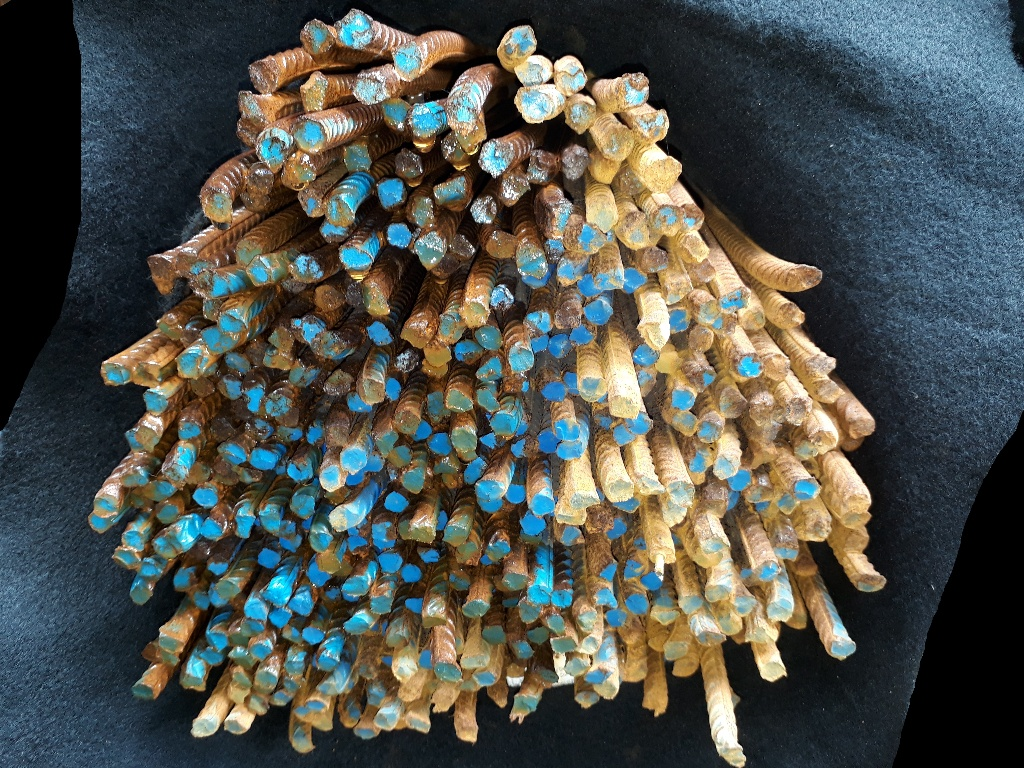dipstick: (513, 86, 554, 124), (335, 9, 373, 48), (291, 118, 329, 155), (351, 71, 390, 104), (235, 90, 268, 129), (478, 138, 510, 178), (405, 102, 440, 138), (414, 233, 448, 270), (564, 96, 597, 134), (390, 45, 423, 83), (298, 71, 328, 112), (147, 254, 176, 295), (602, 125, 634, 162), (513, 55, 549, 87), (256, 137, 288, 173), (399, 317, 436, 348), (289, 253, 326, 284), (795, 513, 833, 543), (249, 56, 279, 94), (563, 224, 602, 253), (636, 111, 670, 144), (300, 19, 334, 52), (547, 199, 575, 238), (310, 331, 349, 359), (650, 204, 684, 236), (455, 122, 487, 156), (498, 176, 531, 208), (433, 175, 467, 206), (359, 282, 390, 316), (382, 96, 410, 133), (652, 158, 682, 192), (525, 150, 554, 185), (717, 386, 748, 418), (504, 25, 537, 55), (440, 133, 470, 166), (636, 322, 670, 351), (199, 327, 234, 355), (289, 358, 320, 389), (375, 177, 405, 209), (748, 392, 777, 425), (435, 310, 464, 343), (284, 154, 318, 182), (202, 192, 232, 223), (585, 204, 618, 232), (702, 483, 729, 517), (562, 144, 588, 179), (338, 245, 373, 271), (325, 197, 355, 227), (296, 188, 325, 219), (246, 256, 274, 288), (591, 153, 620, 183), (559, 63, 588, 93), (247, 165, 276, 195), (583, 507, 614, 535), (485, 231, 517, 258), (322, 369, 354, 396), (718, 287, 751, 313), (679, 234, 708, 263), (394, 149, 423, 178), (620, 75, 650, 103), (616, 167, 646, 195), (446, 105, 476, 133), (217, 311, 247, 339), (624, 212, 650, 244), (263, 347, 297, 371), (784, 397, 812, 426), (668, 480, 696, 509), (448, 234, 477, 262), (344, 144, 373, 172), (338, 448, 367, 476), (747, 418, 779, 443), (470, 196, 498, 224), (554, 300, 581, 329), (517, 253, 547, 279), (583, 300, 614, 325), (328, 507, 359, 532), (151, 532, 182, 557), (763, 354, 791, 381), (451, 425, 478, 453), (299, 315, 326, 343), (364, 679, 391, 707), (793, 263, 822, 289), (459, 302, 488, 328), (687, 366, 717, 391), (99, 362, 130, 386), (813, 380, 845, 403), (411, 196, 434, 228), (319, 220, 351, 243), (313, 285, 345, 308), (672, 411, 699, 438), (579, 376, 606, 403), (319, 464, 347, 490), (187, 270, 213, 298), (155, 315, 183, 341), (131, 361, 159, 387), (430, 254, 459, 279), (423, 342, 452, 367), (356, 379, 385, 404), (337, 699, 362, 728), (217, 440, 247, 464), (806, 352, 837, 375), (661, 281, 692, 304), (247, 448, 279, 470), (679, 205, 706, 231), (641, 247, 668, 273), (777, 302, 805, 327), (235, 120, 260, 148), (603, 479, 632, 503), (609, 394, 638, 418), (285, 457, 314, 481), (633, 475, 666, 496), (622, 413, 653, 435), (854, 573, 888, 593), (642, 692, 668, 718), (577, 272, 604, 297), (308, 559, 333, 586), (268, 325, 295, 350), (175, 353, 200, 380), (696, 419, 724, 443), (474, 326, 502, 350), (434, 658, 462, 682), (464, 457, 488, 485), (365, 322, 393, 346), (372, 521, 396, 549), (733, 354, 762, 377), (445, 388, 474, 411), (228, 646, 257, 669), (592, 268, 622, 290), (474, 479, 504, 501), (688, 327, 714, 352), (490, 284, 515, 310), (386, 223, 411, 249), (290, 495, 316, 520), (142, 390, 167, 416), (848, 415, 875, 439), (813, 427, 837, 454), (240, 386, 264, 413), (142, 481, 176, 500), (842, 530, 870, 553), (659, 503, 687, 526), (392, 411, 420, 434), (111, 548, 140, 570), (263, 393, 293, 414), (622, 268, 647, 293), (509, 347, 534, 372), (476, 356, 501, 381), (174, 567, 199, 592), (425, 392, 451, 416), (217, 375, 243, 399), (162, 463, 186, 489), (93, 495, 119, 519), (695, 299, 718, 326), (632, 344, 659, 367), (528, 495, 555, 518), (391, 658, 418, 681), (207, 582, 230, 609), (692, 549, 723, 569), (711, 313, 739, 335), (750, 444, 778, 466), (454, 340, 482, 362), (134, 425, 156, 453), (245, 419, 274, 440), (568, 491, 600, 510), (239, 191, 271, 210), (791, 478, 821, 498), (712, 455, 737, 479), (553, 526, 583, 546), (406, 710, 431, 734), (568, 322, 594, 345), (721, 743, 747, 766), (554, 418, 580, 441), (474, 389, 500, 412), (426, 432, 452, 455), (386, 445, 412, 468), (375, 431, 398, 457), (315, 551, 341, 574), (325, 425, 351, 448), (224, 351, 250, 374), (510, 694, 537, 716), (393, 350, 420, 372), (346, 391, 373, 413), (210, 462, 237, 484), (136, 559, 163, 581), (556, 507, 587, 526), (594, 408, 622, 429), (259, 587, 287, 608), (130, 583, 154, 607), (526, 310, 551, 333), (258, 508, 281, 533), (667, 308, 689, 334), (655, 353, 681, 375), (543, 239, 565, 265), (549, 332, 571, 358), (489, 413, 515, 435), (454, 542, 480, 564), (441, 525, 467, 547), (397, 678, 423, 700), (842, 509, 872, 528), (830, 639, 857, 660), (773, 540, 800, 561), (518, 514, 545, 535), (431, 689, 455, 712), (233, 514, 256, 538), (121, 529, 145, 552), (519, 599, 541, 624), (373, 711, 398, 733), (384, 491, 409, 513), (304, 419, 326, 444), (274, 405, 299, 427), (245, 342, 270, 364), (635, 371, 656, 397), (526, 586, 552, 607), (484, 539, 510, 560), (236, 244, 262, 265), (86, 513, 112, 534), (754, 561, 781, 581), (759, 663, 787, 682), (342, 616, 370, 635), (176, 251, 195, 279), (199, 516, 222, 539), (742, 308, 766, 330), (576, 607, 598, 631), (409, 418, 431, 442), (273, 518, 297, 540), (186, 462, 210, 484), (129, 487, 153, 509), (718, 614, 743, 635), (536, 432, 561, 453), (542, 381, 567, 402), (378, 552, 403, 573), (266, 608, 291, 629), (189, 375, 214, 396), (520, 270, 549, 288), (501, 376, 530, 394), (420, 359, 449, 377), (744, 483, 770, 503), (649, 546, 675, 566), (619, 626, 645, 646), (481, 624, 507, 644), (324, 486, 350, 506), (689, 262, 716, 281), (794, 556, 817, 578), (613, 424, 636, 446), (622, 558, 645, 580), (511, 436, 533, 459), (289, 595, 311, 618), (727, 470, 751, 491), (640, 569, 664, 590), (671, 659, 699, 677), (593, 587, 617, 608), (501, 572, 529, 590), (463, 599, 491, 617), (253, 671, 277, 692), (202, 299, 223, 323), (211, 418, 235, 439), (688, 451, 713, 471), (624, 594, 649, 614), (594, 680, 619, 700), (277, 533, 302, 553), (226, 684, 251, 704), (650, 609, 681, 625), (340, 577, 366, 596), (239, 619, 265, 638), (192, 488, 218, 507), (701, 536, 730, 553), (274, 425, 303, 442), (564, 657, 591, 675), (180, 325, 202, 347), (734, 597, 757, 618), (399, 472, 422, 493), (257, 548, 280, 569), (696, 630, 726, 646), (671, 390, 695, 410), (548, 636, 578, 652), (309, 532, 333, 552), (612, 497, 640, 514), (554, 443, 582, 460), (476, 496, 504, 513), (157, 637, 185, 654), (663, 641, 688, 660), (574, 690, 599, 709), (409, 525, 434, 544), (301, 626, 326, 645), (346, 535, 371, 554), (745, 626, 771, 644), (480, 431, 506, 449), (583, 668, 612, 684), (776, 492, 797, 514), (231, 397, 252, 419), (206, 630, 228, 651), (231, 669, 253, 690), (788, 608, 808, 631), (526, 626, 549, 646), (205, 555, 228, 575), (767, 603, 791, 622), (575, 635, 599, 654), (384, 634, 408, 653), (368, 594, 392, 613), (353, 660, 377, 679), (793, 442, 818, 460), (679, 595, 704, 613), (345, 282, 363, 307), (190, 719, 215, 737), (199, 648, 224, 666), (120, 471, 148, 487), (214, 581, 240, 598), (154, 503, 180, 520), (606, 518, 627, 539), (849, 491, 871, 511), (486, 679, 508, 699), (247, 695, 269, 715), (511, 640, 534, 659), (383, 378, 402, 401), (178, 420, 201, 439), (705, 584, 729, 602), (244, 603, 268, 621), (535, 667, 560, 684), (223, 718, 248, 735), (598, 560, 618, 581), (504, 484, 526, 503), (249, 642, 271, 661), (140, 642, 162, 661), (238, 467, 264, 483), (623, 665, 646, 683), (416, 545, 439, 563), (280, 277, 307, 292), (290, 737, 315, 753), (400, 564, 421, 583), (281, 625, 302, 644), (604, 609, 626, 627), (456, 725, 478, 743), (294, 706, 317, 723), (562, 372, 578, 396), (647, 634, 668, 652), (129, 684, 154, 699), (422, 614, 448, 628), (546, 615, 565, 634), (472, 670, 496, 685), (363, 454, 383, 472), (192, 591, 210, 611), (551, 590, 572, 607), (506, 661, 528, 677), (353, 724, 378, 738), (269, 690, 292, 705), (432, 462, 458, 475), (189, 260, 215, 273), (519, 530, 543, 544), (441, 473, 463, 488), (460, 655, 485, 668), (405, 597, 423, 615), (315, 681, 338, 695), (282, 676, 305, 690), (319, 657, 339, 673), (725, 489, 740, 510), (284, 660, 305, 675), (532, 334, 548, 353), (345, 470, 365, 485), (305, 699, 328, 712), (313, 716, 334, 730), (419, 650, 433, 670), (180, 674, 203, 686), (435, 510, 448, 531), (502, 592, 519, 608), (335, 560, 352, 576), (461, 678, 479, 693), (687, 471, 706, 485), (228, 633, 248, 646), (160, 653, 180, 666), (398, 519, 409, 541), (324, 586, 341, 600), (634, 537, 649, 549), (457, 451, 477, 460)
